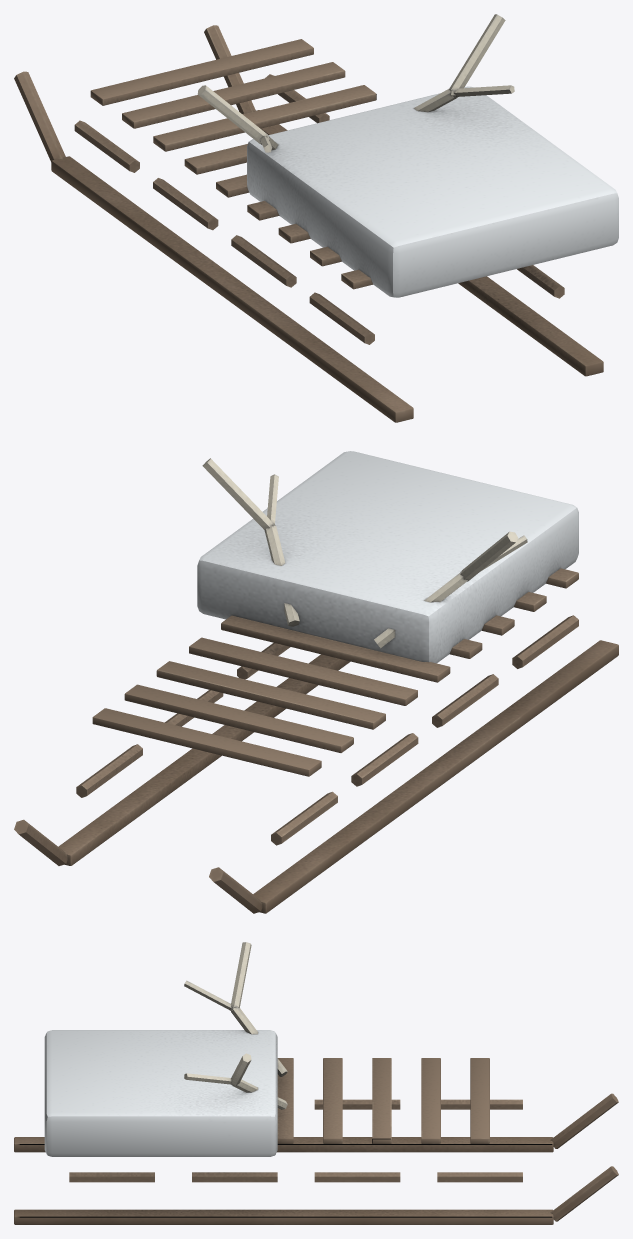
Rendered from siberian_sledge.glb.
3 renders of one model, top to bottom at view 1: azimuth 30°, elevation 25°; view 2: azimuth 150°, elevation 25°; view 3: azimuth 270°, elevation 25°, orthographic. The views are drawn at different scales.
Parts seen in each view (by area): view 1: siberian_sledge; view 2: siberian_sledge; view 3: siberian_sledge.
Boxes of the visible parts, x1,y1,x2,y2 form: siberian_sledge: (14, 14, 618, 422); siberian_sledge: (14, 451, 618, 913); siberian_sledge: (14, 942, 618, 1224).
Bounding box in the file's own units: 1.13 × 0.8444 × 2.47.
1 material, 1 textured.
